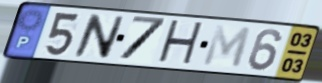5: (42, 10, 83, 57)
6: (245, 27, 285, 72)
7: (119, 14, 170, 64)
H: (155, 18, 206, 68)
M: (200, 23, 254, 71)
N: (71, 12, 127, 61)
